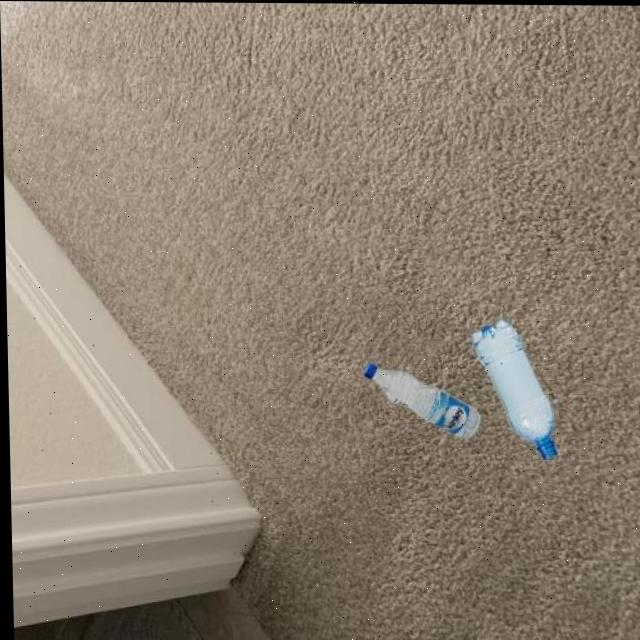bottle: (468, 317, 556, 461), (359, 361, 479, 439)
